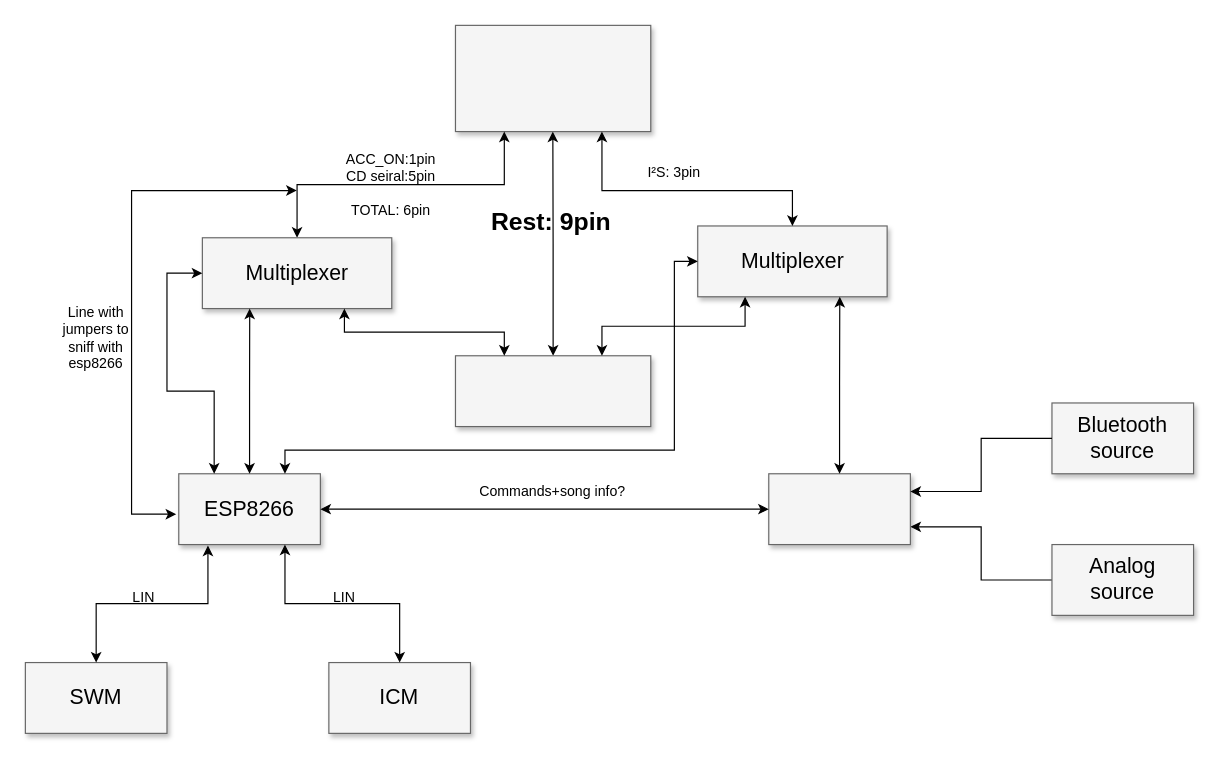
Some shapes in this 1221 by 762 pixel diagram are drawn without their labels. The shapes that lost their labels are listed below. From the top down, each one's centre as x and y in pixels, then its label:
At point (554, 79): "Head Unit Main Board".
At point (554, 392): "CD Reader".
At point (840, 510): "BTM331".
